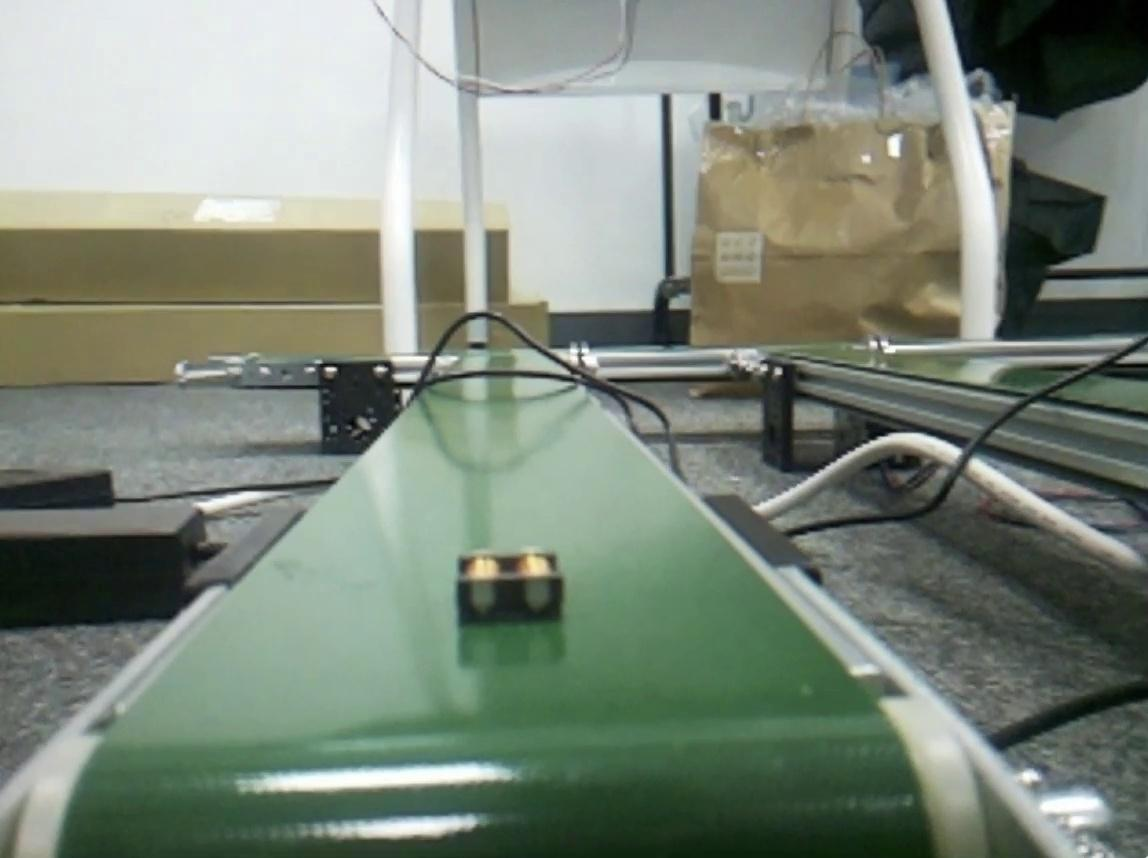inductor: (462, 550, 562, 620)
